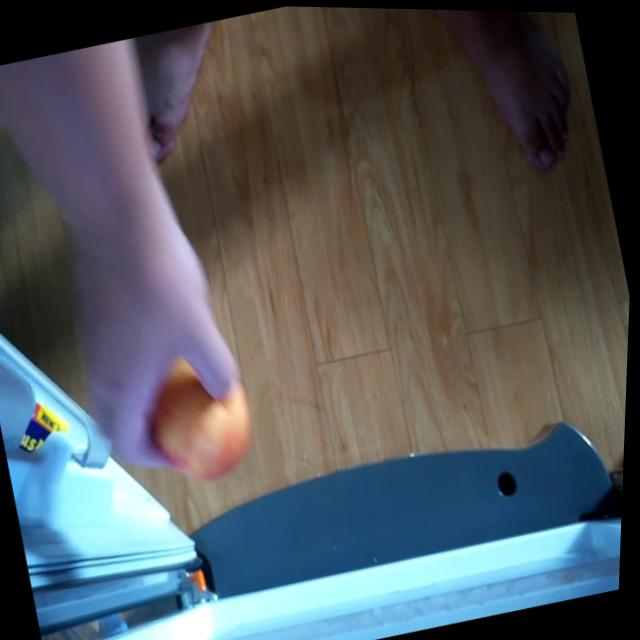apple: (133, 343, 270, 492)
